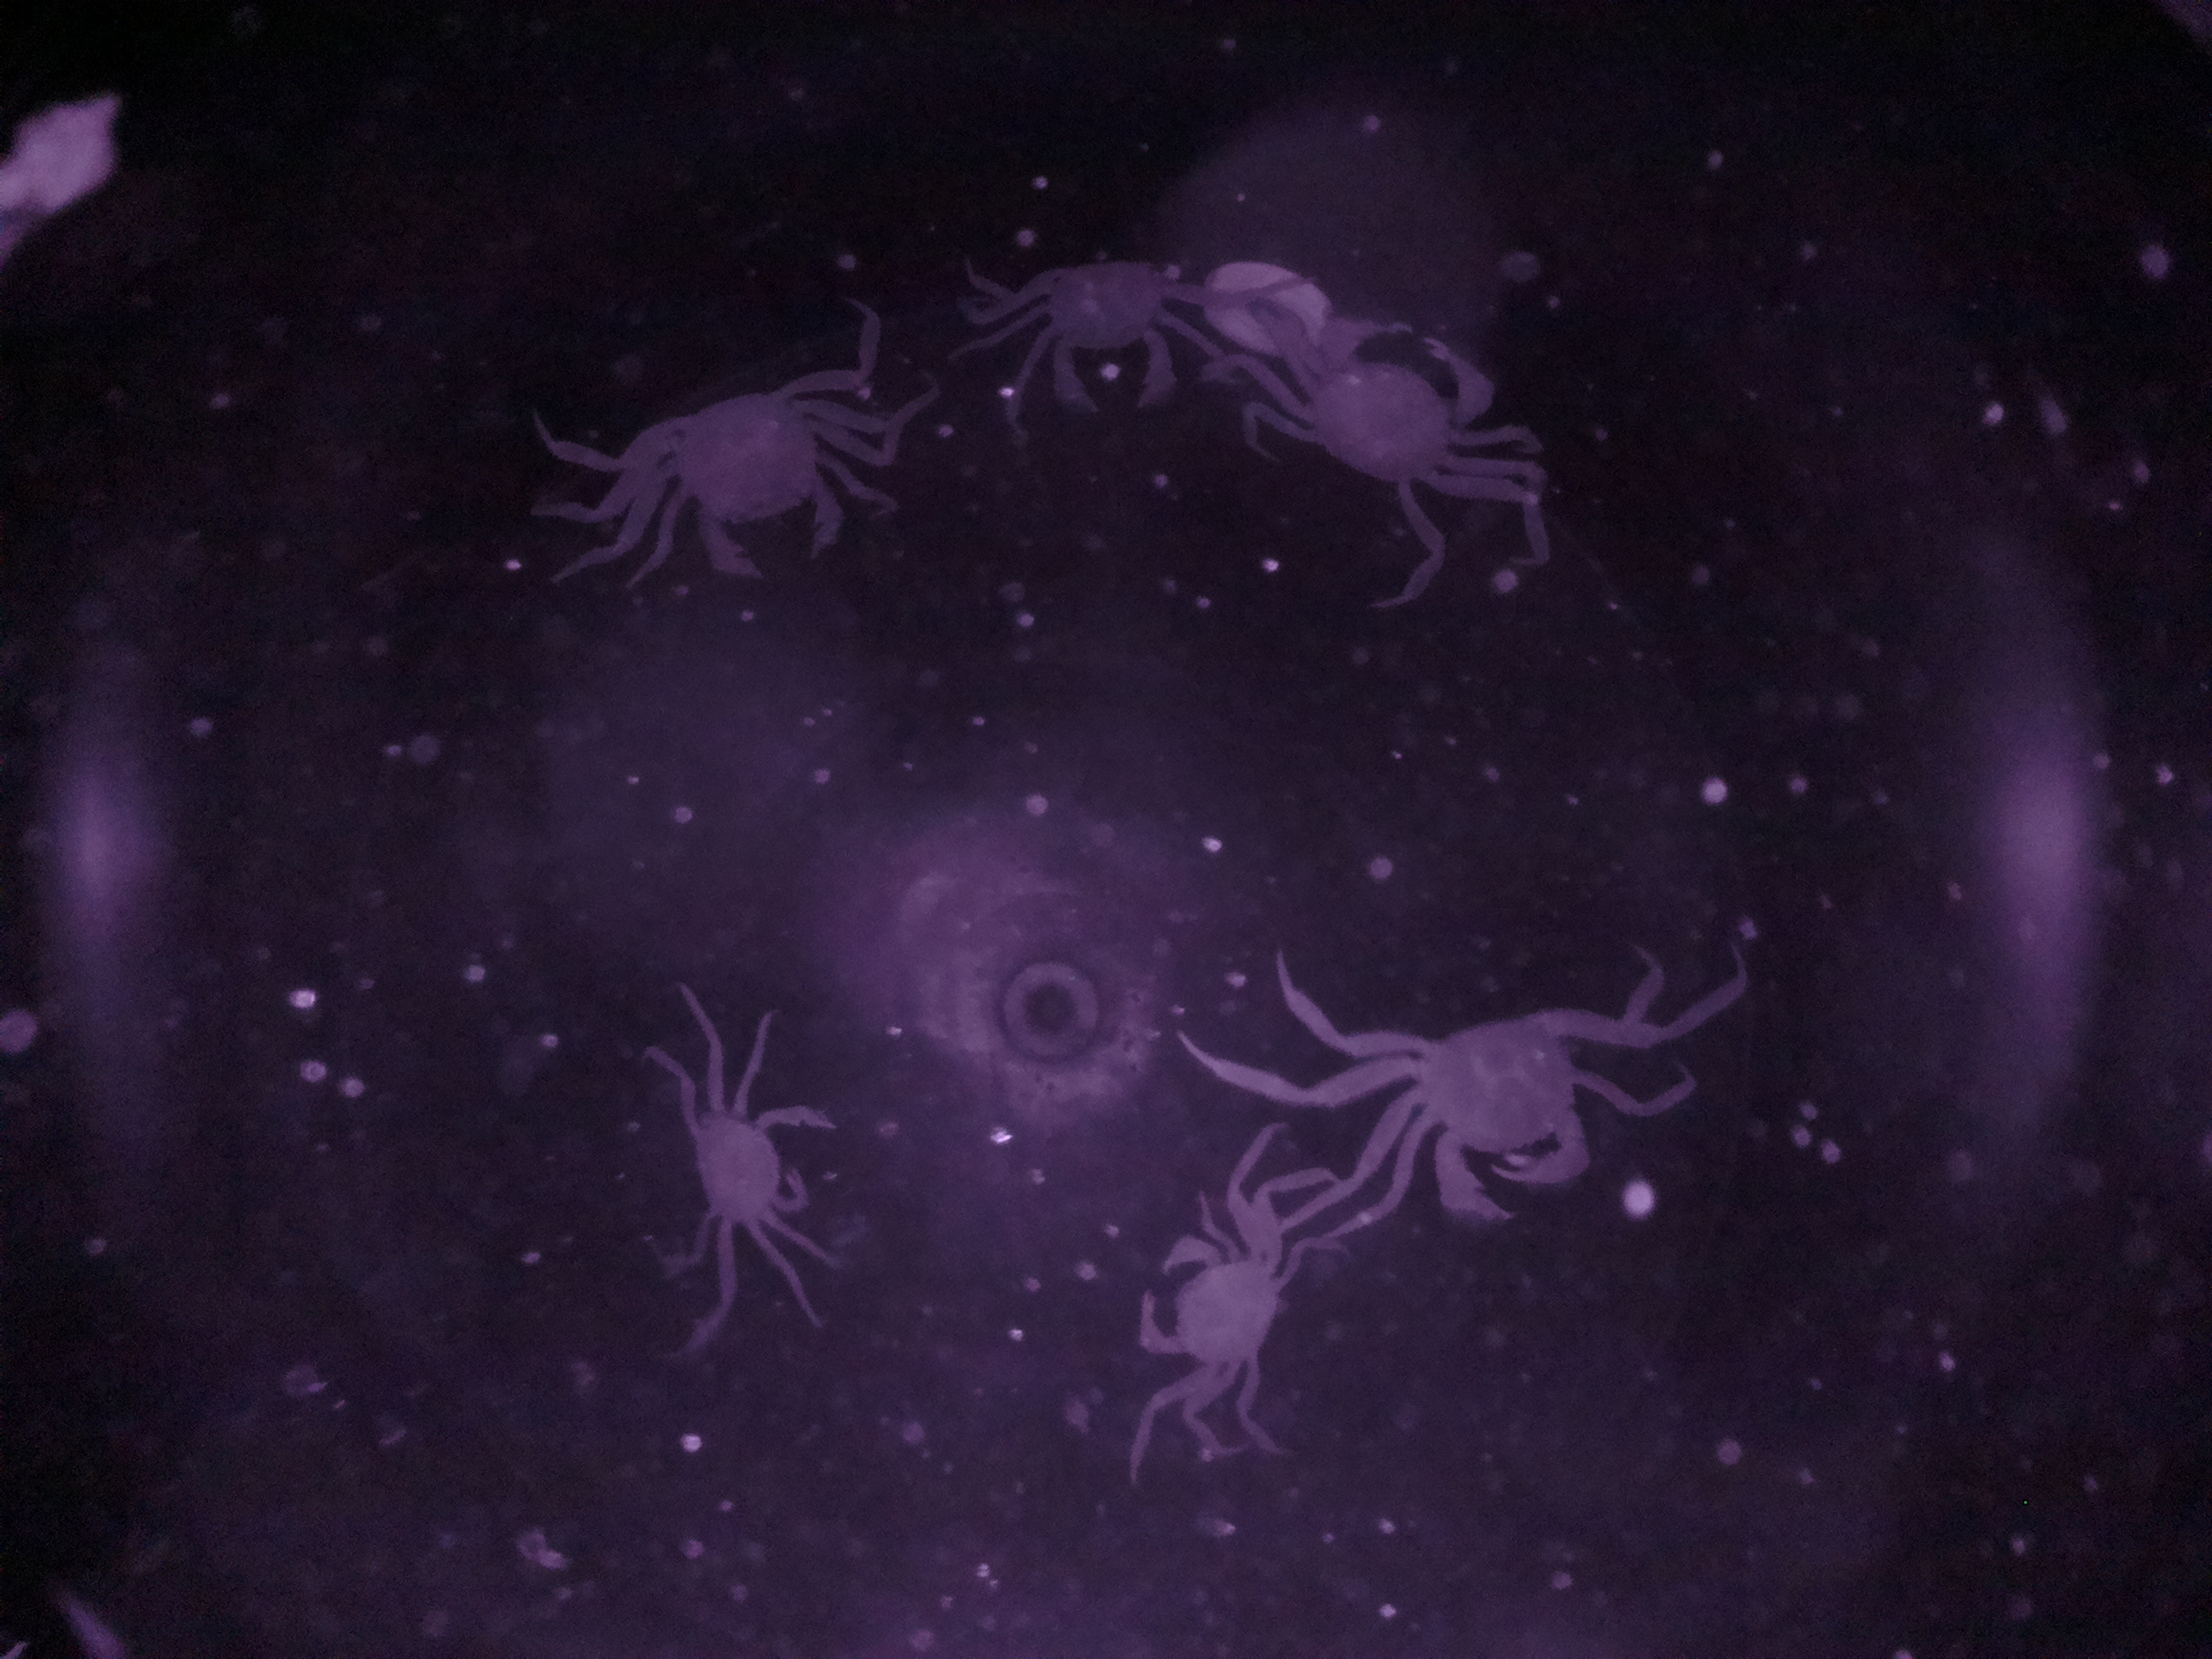Crab: (1360, 993, 1641, 1248), (608, 368, 876, 605), (1266, 296, 1540, 484), (1101, 1199, 1313, 1415), (982, 240, 1224, 410), (665, 1063, 852, 1263)
